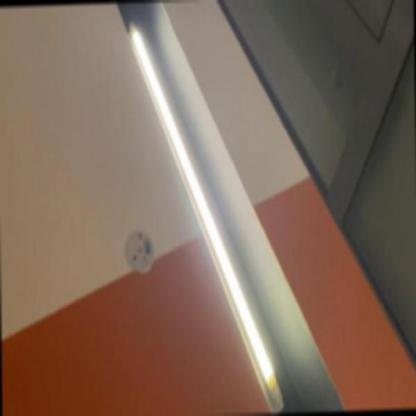light_on: (118, 7, 288, 415)
